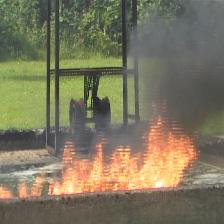fire: (13, 120, 198, 193)
